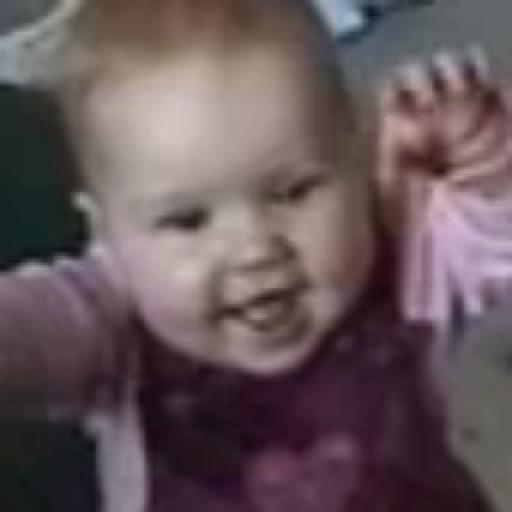Autism: (75, 4, 394, 378)
